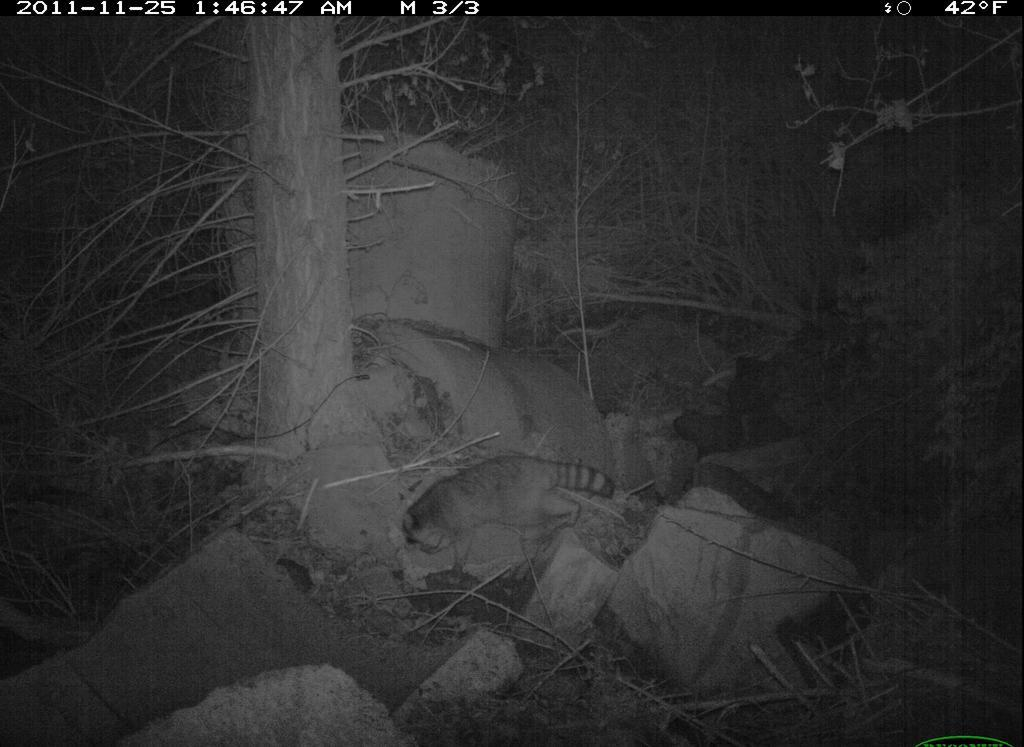raccoon: (382, 442, 625, 573)
